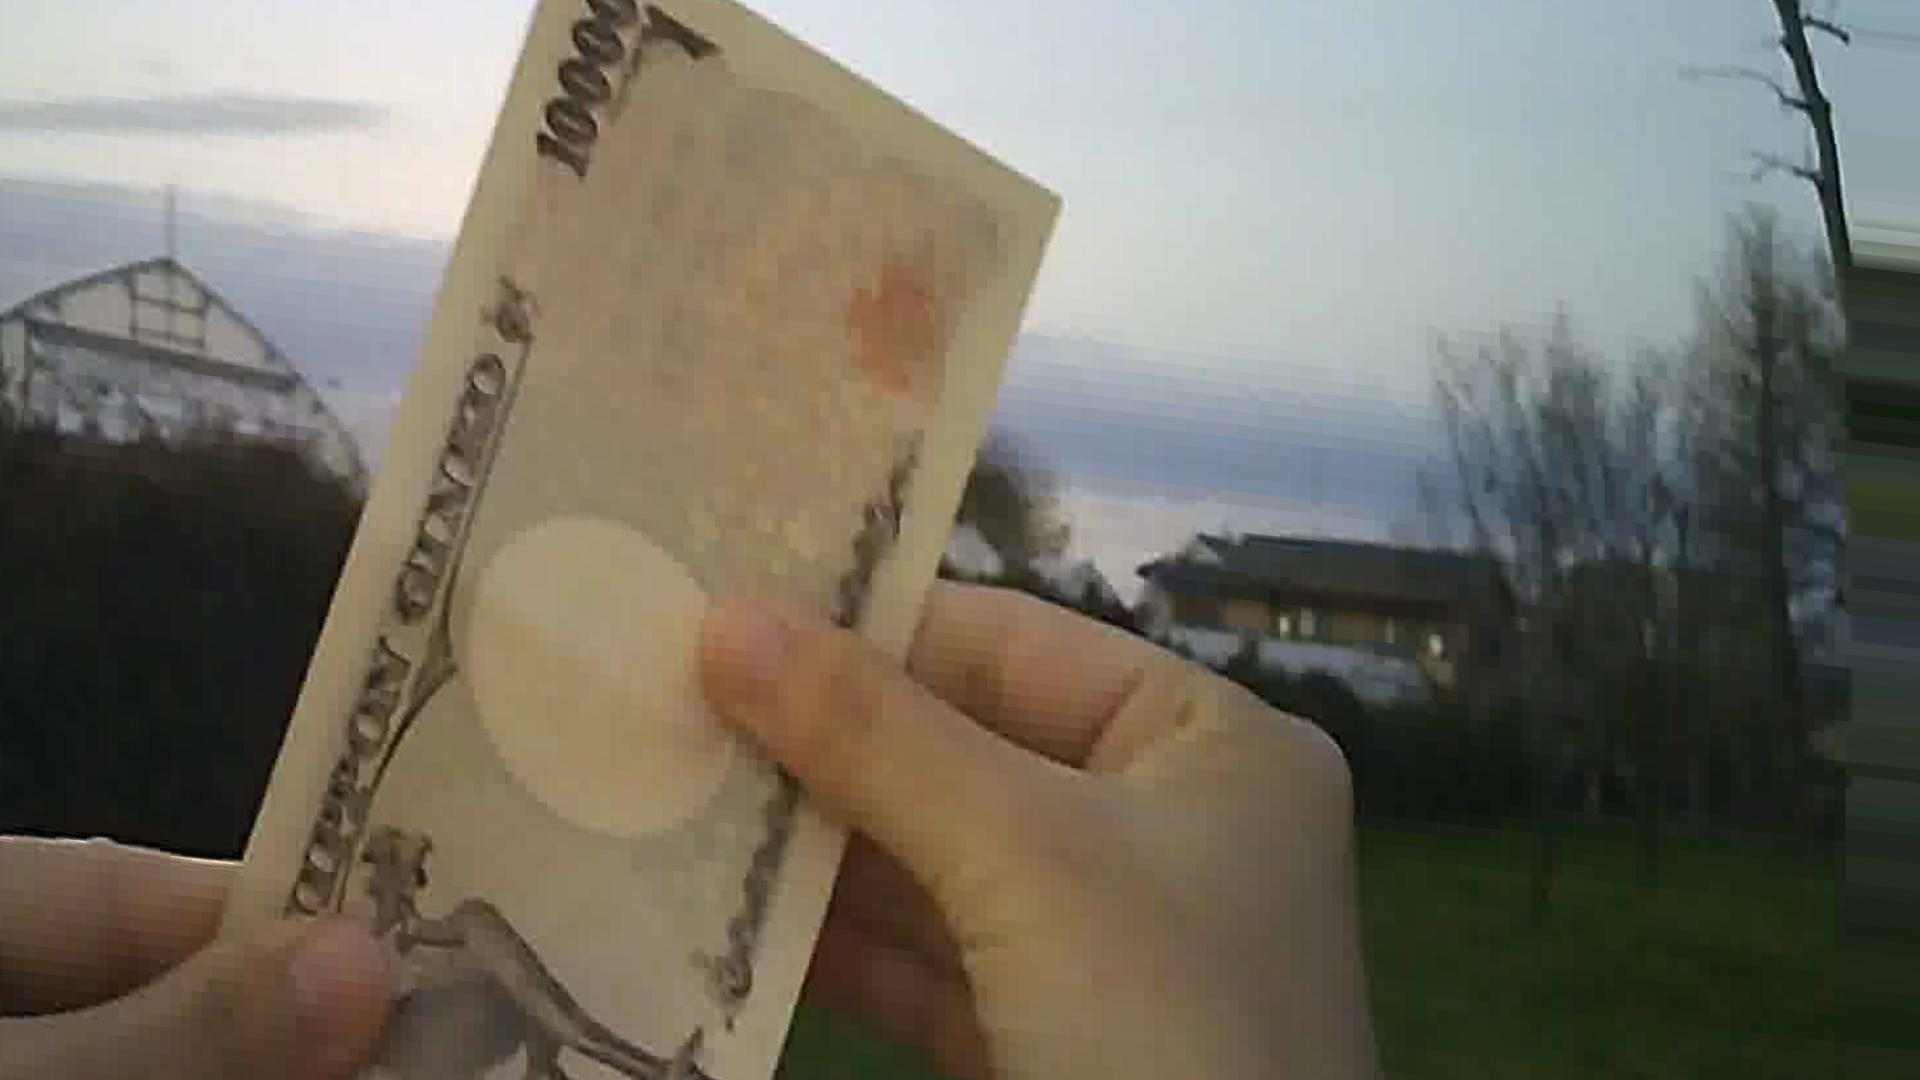10,000 Yen: (193, 3, 1014, 1079)
